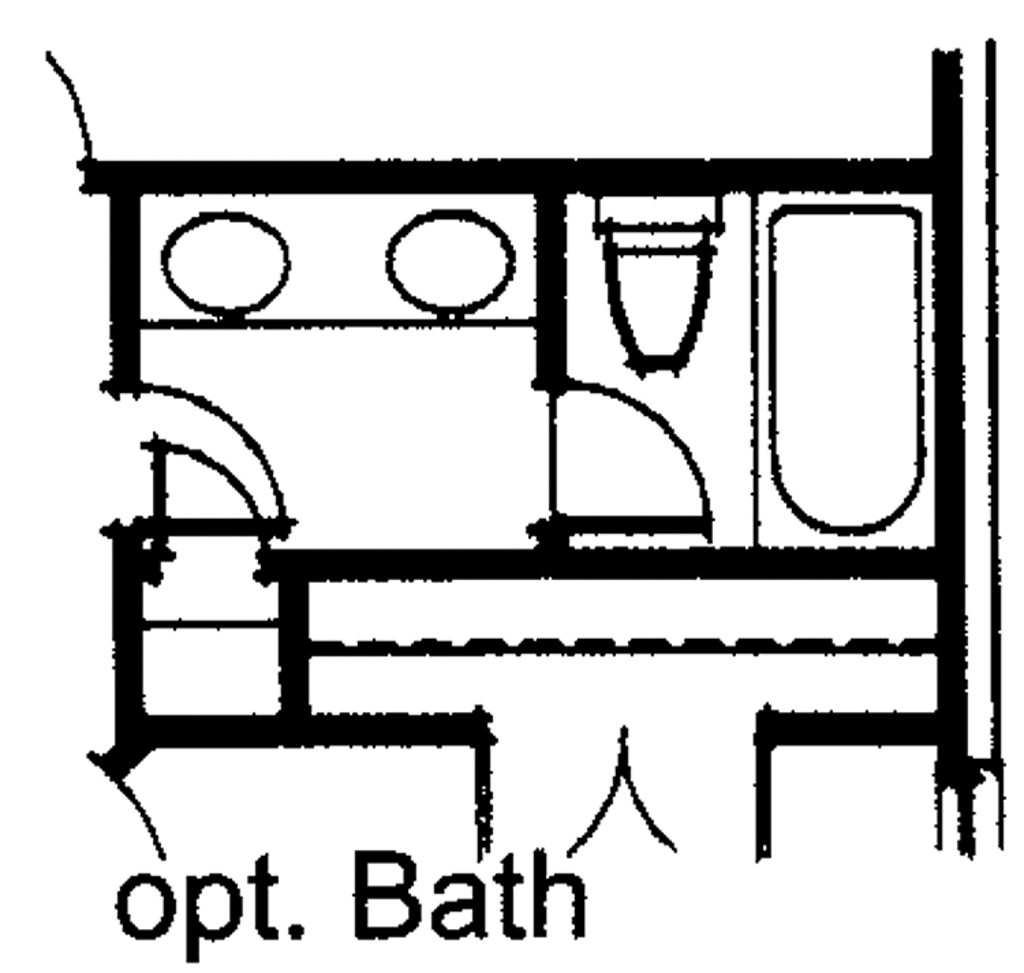door: (110, 379, 296, 526), (543, 384, 710, 532), (147, 435, 278, 552)
large_sink: (579, 188, 720, 384)
small_sink: (150, 198, 310, 328), (384, 193, 529, 323)
tub: (750, 187, 932, 548)
